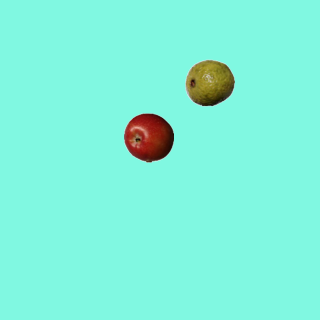Apple Braeburn: (123, 112, 173, 162)
Guava: (184, 57, 234, 107)
